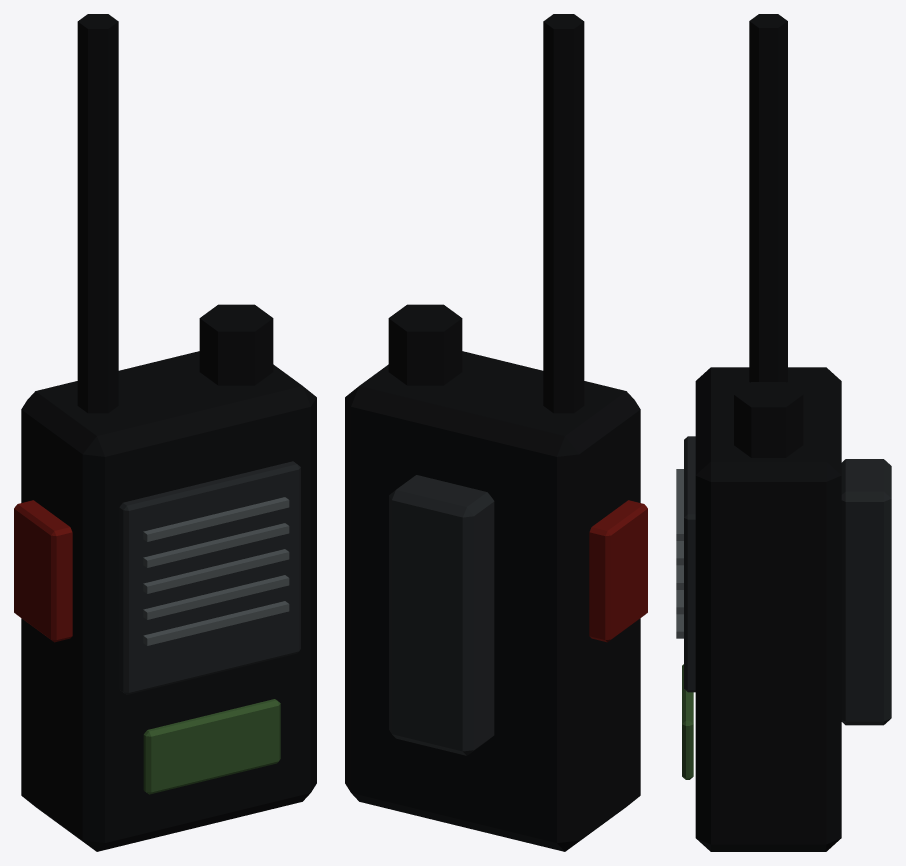
File: PoliceRadio.fbx
3 renders of one model, left to right at view 1: azimuth 30°, elevation 25°; view 2: azimuth 150°, elevation 25°; view 3: azimuth 270°, elevation 25°, orthographic. The views are drawn at different scales.
Visible parts, largest first — view 1: PoliceRadio; view 2: PoliceRadio; view 3: PoliceRadio.
Boxes of the visible parts, left/top/right/bottom form: PoliceRadio: left=14, top=14, right=316, bottom=851; PoliceRadio: left=345, top=14, right=647, bottom=851; PoliceRadio: left=676, top=14, right=891, bottom=851.
Size of the model in its own units: 0.0715 by 0.2155 by 0.056.
1 material, 1 textured.
